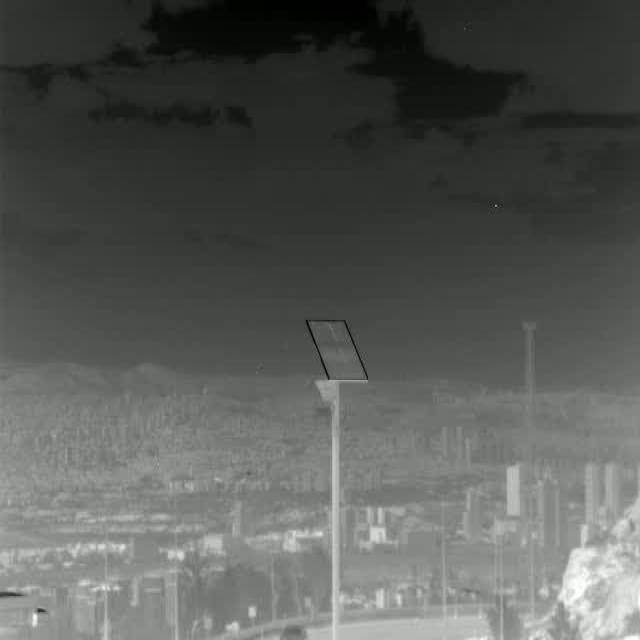Car: (280, 624, 308, 640)
